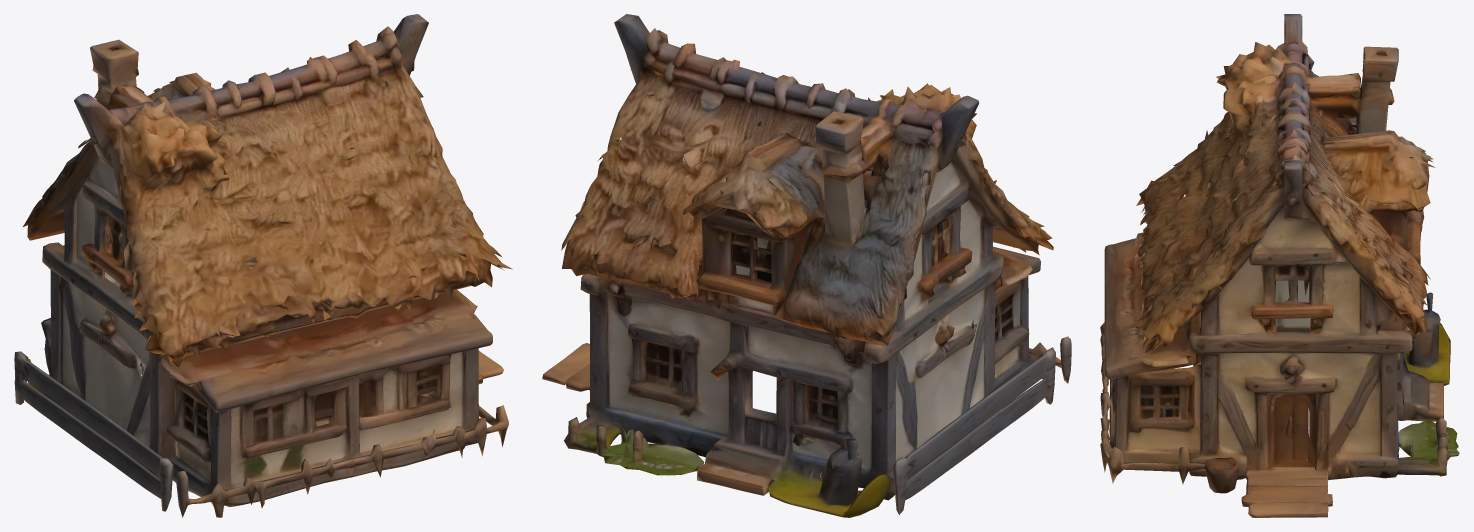
Rendered from prop_house.glb.
3 views of the same model, side by side, from view 1: azimuth 30°, elevation 25°; view 2: azimuth 150°, elevation 25°; view 3: azimuth 270°, elevation 25° (orthographic). The views are drawn at different scales.
Visible parts, largest first — view 1: tripo_node_6fe1d77b-8911-420f-bf35-2f261b2111d8; view 2: tripo_node_6fe1d77b-8911-420f-bf35-2f261b2111d8; view 3: tripo_node_6fe1d77b-8911-420f-bf35-2f261b2111d8.
Boxes of the visible parts, left/top/right/bottom form: tripo_node_6fe1d77b-8911-420f-bf35-2f261b2111d8: left=14, top=14, right=512, bottom=517; tripo_node_6fe1d77b-8911-420f-bf35-2f261b2111d8: left=542, top=14, right=1071, bottom=517; tripo_node_6fe1d77b-8911-420f-bf35-2f261b2111d8: left=1100, top=14, right=1459, bottom=517.
Size of the model in its own units: 0.9989 by 0.8366 by 0.8304.
Materials: 1 (1 with a texture image).
